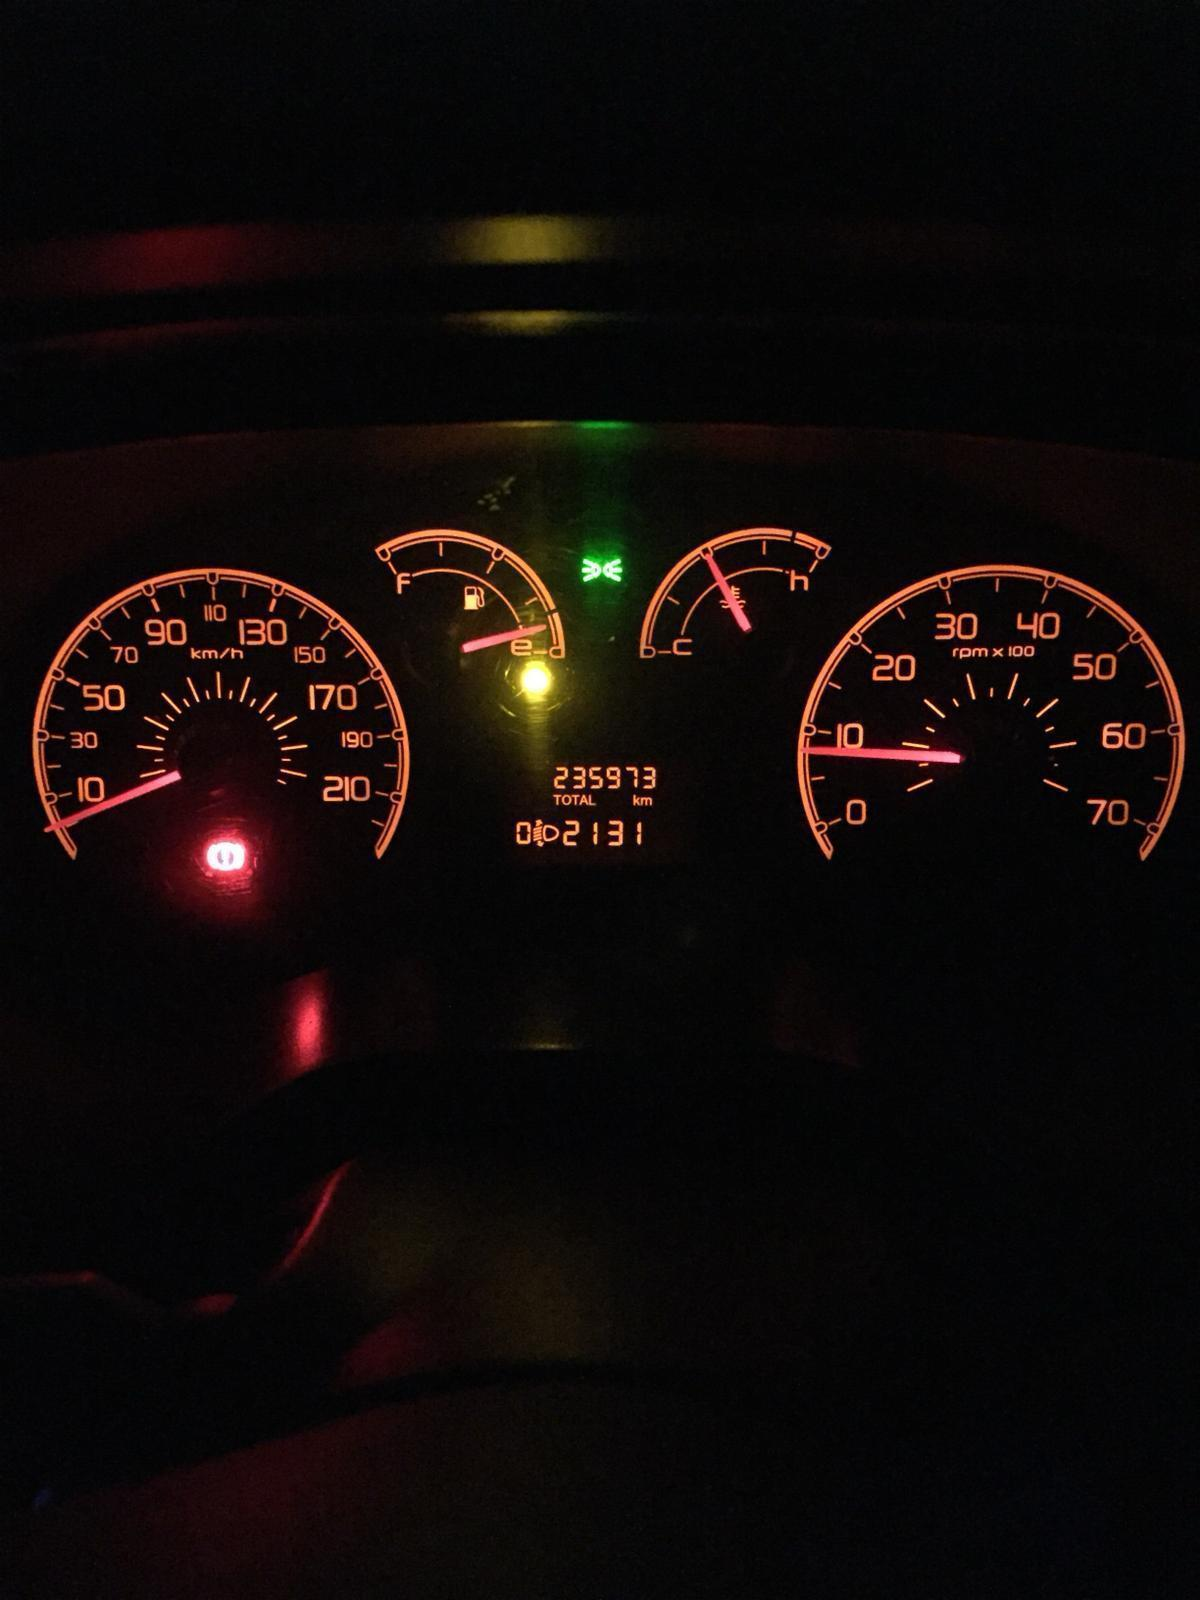0: (513, 820, 531, 847)
1: (590, 819, 600, 848), (634, 818, 643, 848)
2: (561, 818, 581, 850), (552, 763, 570, 789)
3: (608, 816, 623, 850), (642, 763, 657, 787), (572, 763, 584, 787)
5: (587, 765, 603, 790)
7: (626, 763, 639, 789)
9: (605, 765, 621, 790)
X: (587, 794, 597, 806), (640, 796, 652, 806), (562, 792, 571, 805), (552, 792, 560, 806), (633, 792, 640, 806), (580, 792, 587, 806), (572, 792, 579, 806)
odometer: (499, 753, 671, 860)
